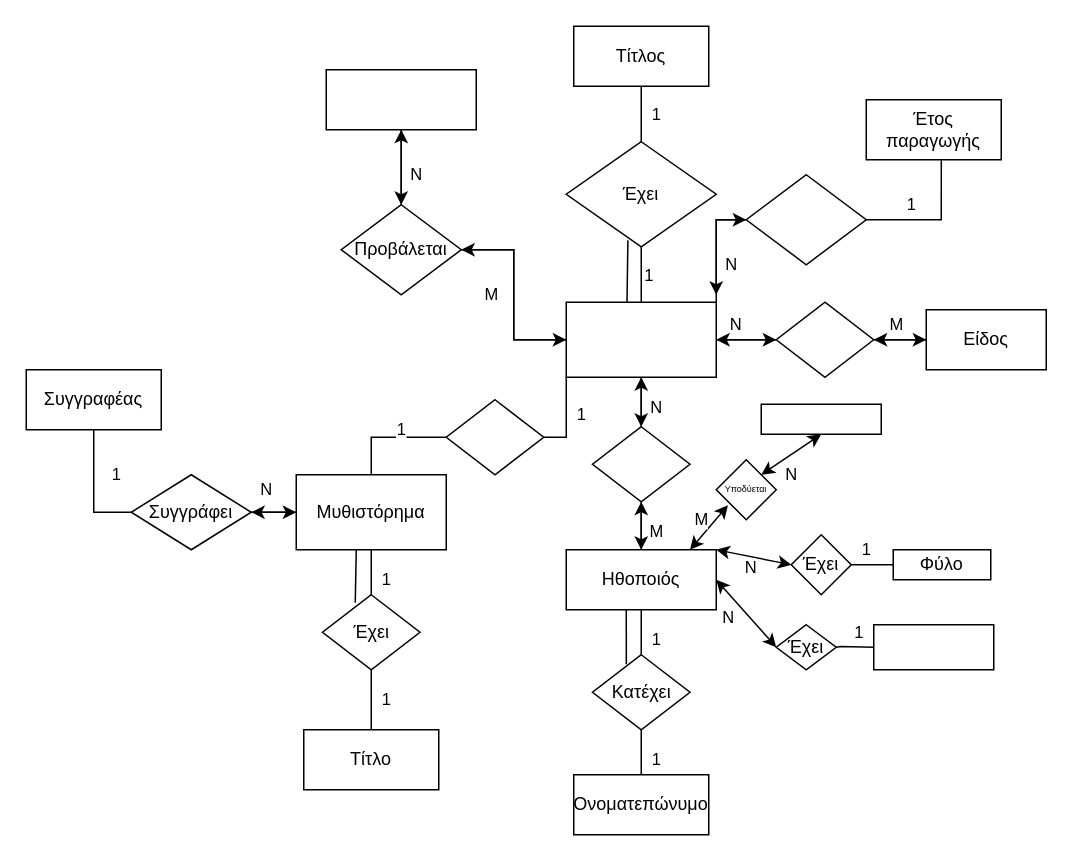
The diagram is 1073 pixels wide and 861 high, and some of its shapes have lost their labels. Here are the shapes that lost their labels. From the top down, the centre of each, then its label:
(x=400, y=99): Τηλεοπτικός σταθμός προβολής
(x=805, y=219): Παράγεται
(x=640, y=339): Τηλεοπτική σειρά
(x=824, y=339): Εμπεριέχει
(x=494, y=436): Βασίζεται
(x=820, y=418): Ρόλος σειράς
(x=640, y=463): Συμμετέχει
(x=933, y=646): Ημερομηνία Γέννησης
